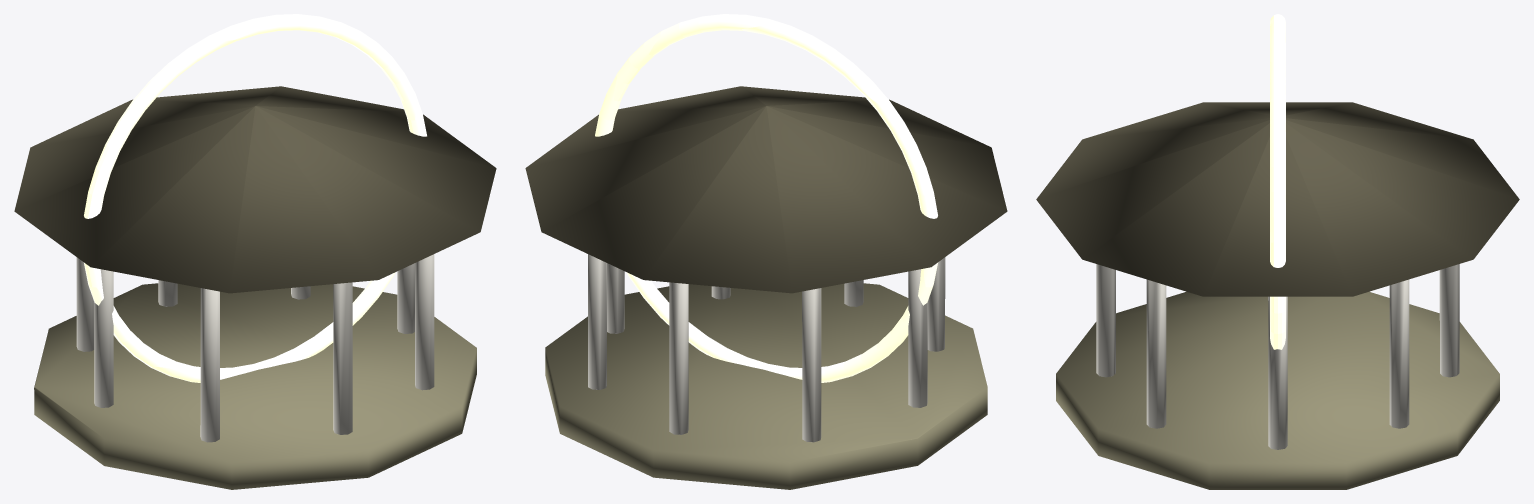
File: SM_Warmerdamm_Bandstand_LOD1.fbx
The picture shows the model from 3 angles, left to right: view 1: azimuth 30°, elevation 25°; view 2: azimuth 150°, elevation 25°; view 3: azimuth 270°, elevation 25°; orthographic projection.
Parts seen in each view (by area): view 1: SM_Warmerdamm_Bandstand_LOD1; view 2: SM_Warmerdamm_Bandstand_LOD1; view 3: SM_Warmerdamm_Bandstand_LOD1.
Part boxes in pixels (x1,y1,x2,y2): SM_Warmerdamm_Bandstand_LOD1: (14,14,496,489); SM_Warmerdamm_Bandstand_LOD1: (525,14,1007,489); SM_Warmerdamm_Bandstand_LOD1: (1036,14,1519,489).
Size of the model in its own units: 4.55 by 4.03 by 4.79.
